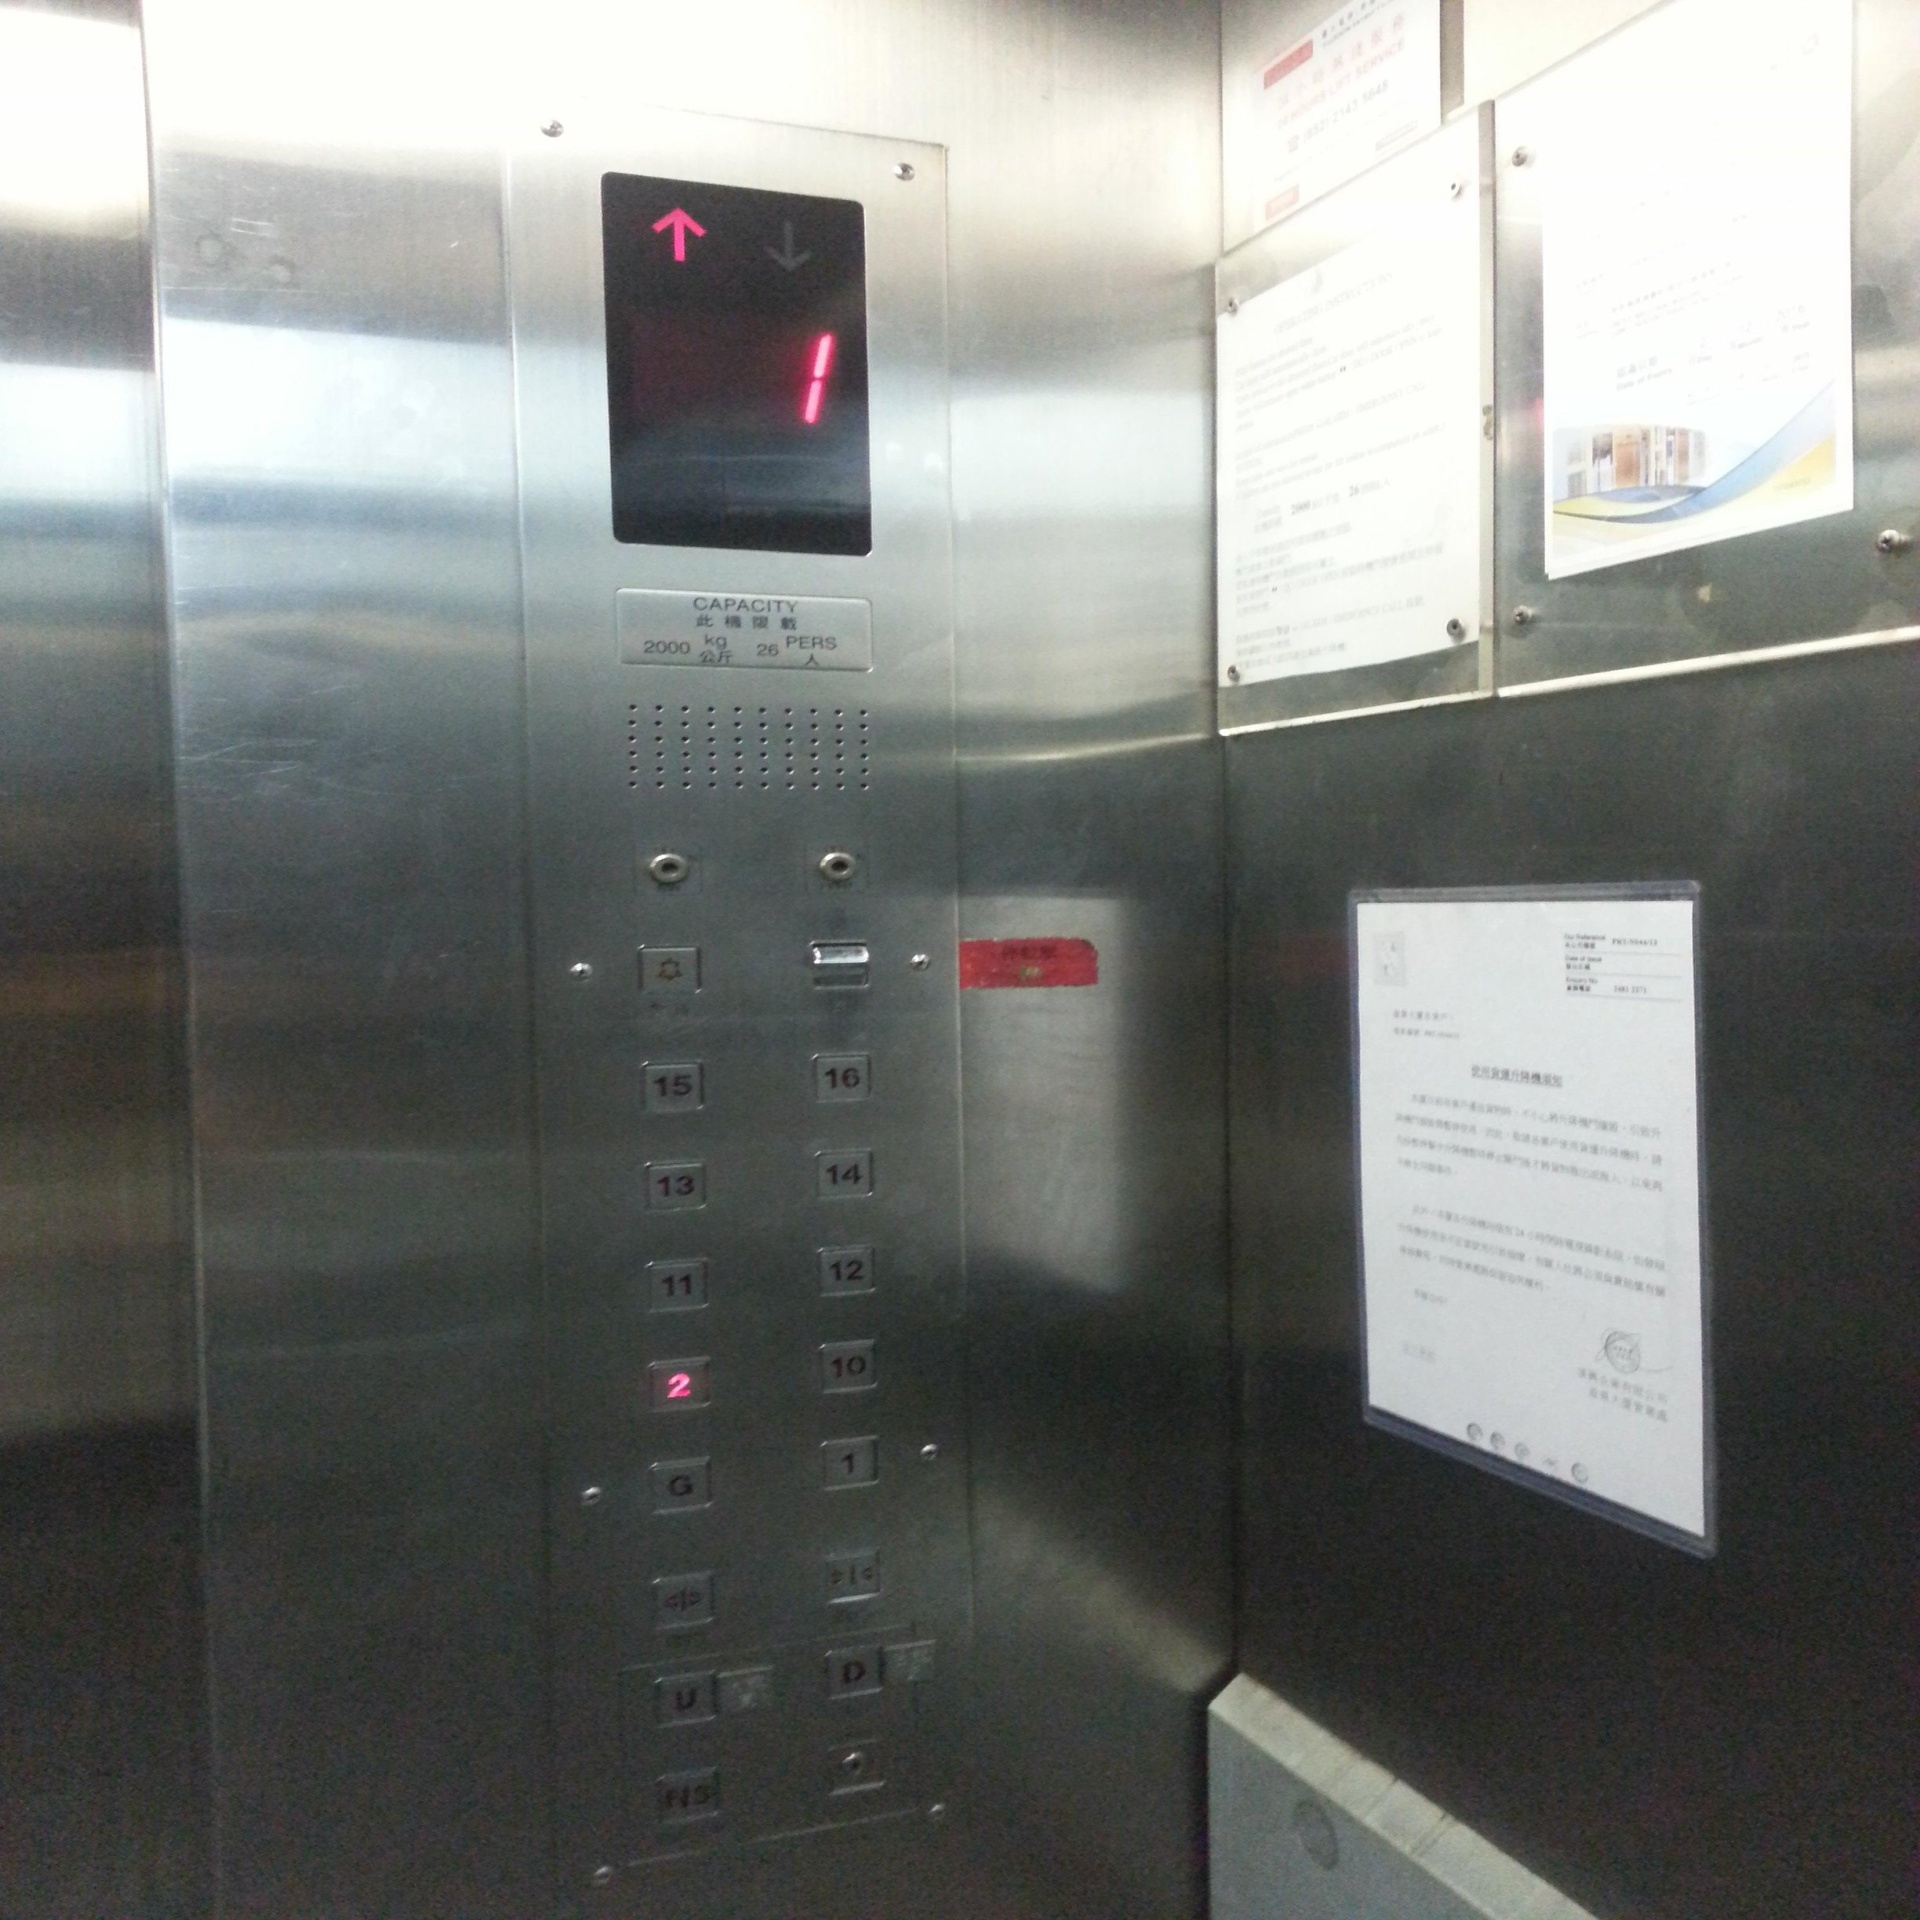10: (816, 1336, 881, 1394)
11: (816, 1431, 883, 1493), (640, 1257, 709, 1315)
12: (816, 1241, 881, 1298)
13: (642, 1160, 707, 1215)
14: (812, 1146, 876, 1203)
15: (638, 1058, 709, 1118)
16: (809, 1050, 876, 1109)
2: (644, 1357, 714, 1414)
D: (821, 1642, 884, 1702)
G: (647, 1458, 710, 1517)
U: (652, 1669, 723, 1730)
alarm: (636, 944, 702, 1000)
blur: (654, 1765, 721, 1823), (811, 941, 870, 988)
close: (821, 1545, 884, 1605)
indicator: (638, 840, 693, 891), (811, 844, 862, 890)
keyhole: (825, 1741, 891, 1795)
led: (601, 174, 874, 556)
open: (649, 1574, 717, 1633)
